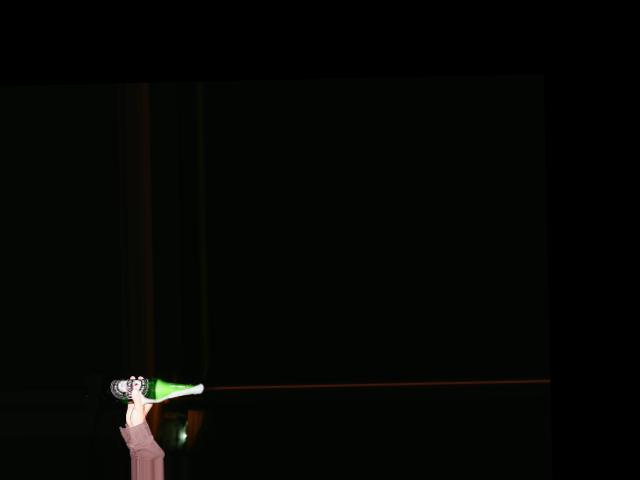beer: (108, 376, 199, 404)
